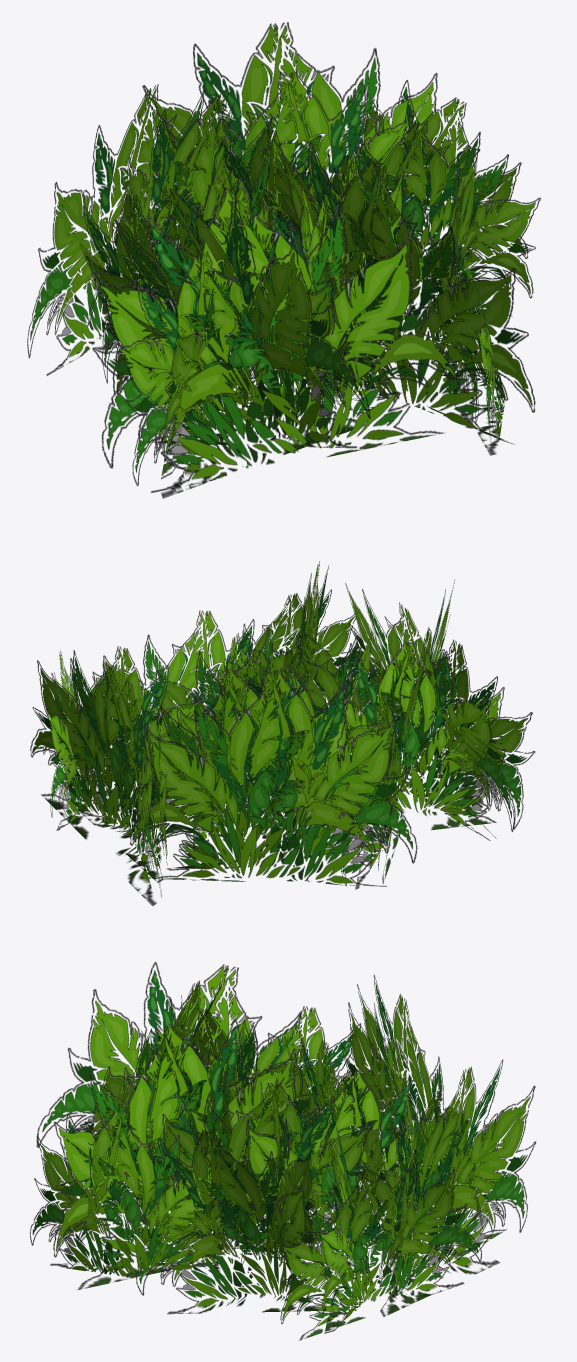
The model's file is bush2.glb.
3 renders of one model, top to bottom at view 1: azimuth 30°, elevation 25°; view 2: azimuth 150°, elevation 25°; view 3: azimuth 270°, elevation 25°, orthographic. The views are drawn at different scales.
Visible parts, largest first — view 1: Material; view 2: Material; view 3: Material.
Part boxes in pixels (x1=…): Material: x1=27, y1=22, x2=540, y2=498; Material: x1=30, y1=561, x2=535, y2=905; Material: x1=30, y1=962, x2=536, y2=1340.
Size of the model in its own units: 2.51 by 1.44 by 2.55.
1 material, 1 textured.
